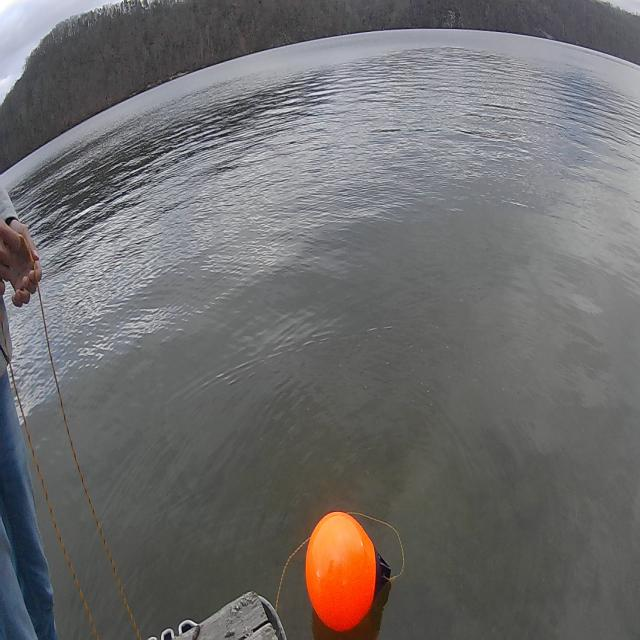Buoy: (304, 505, 382, 638)
